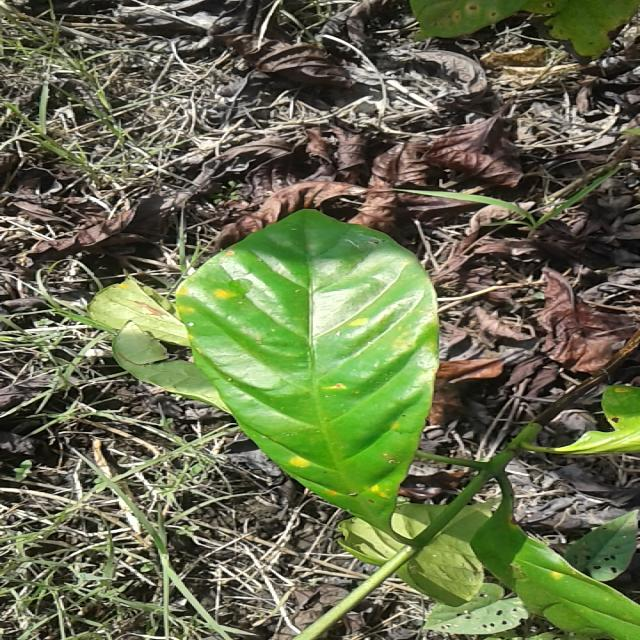Enfermedad-Roya: (175, 209, 442, 530)
